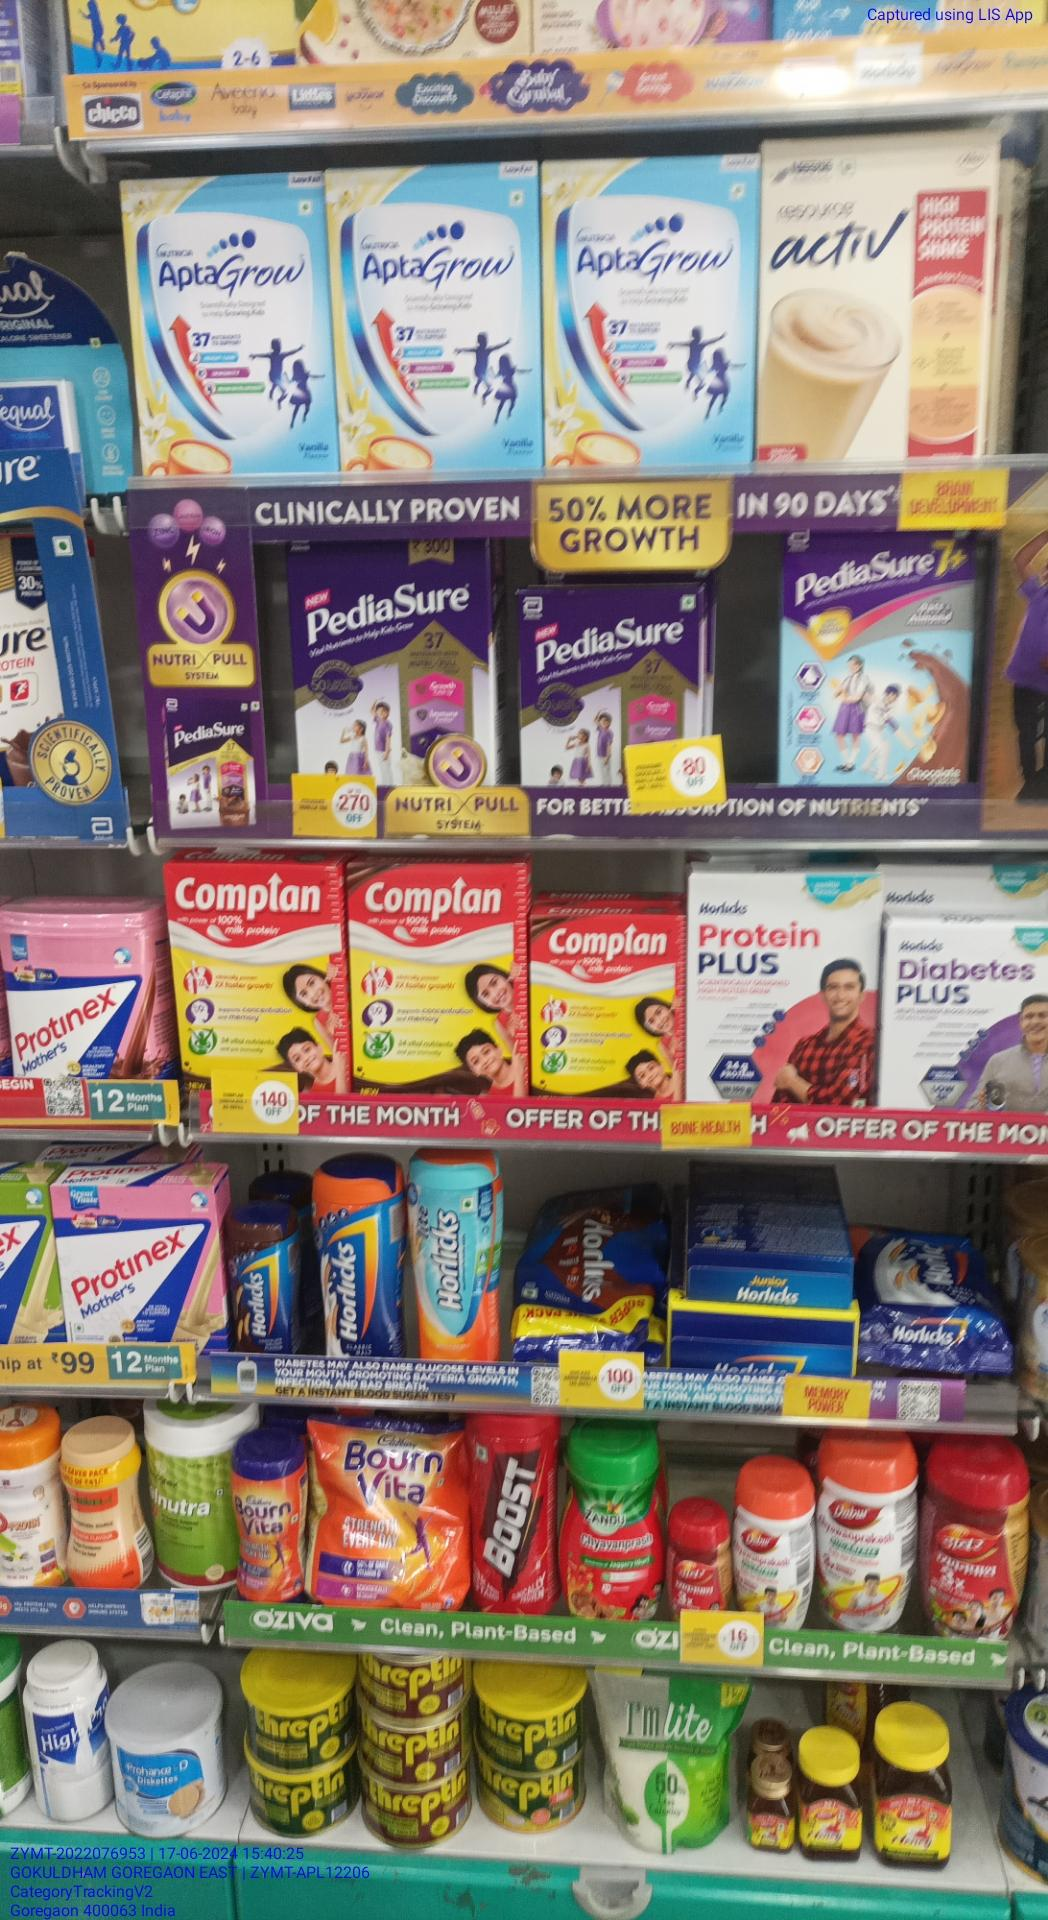BOURN_VITA_200_G_JAR: (232, 1425, 303, 1603)
BOURN_VITA_500_G_POUCH: (308, 1412, 466, 1609)
COMPLAN_CHOCOLATE_200_GMS_PACK: (534, 915, 685, 1102)
COMPLAN_CHOCOLATE_500_GMS_PACK: (348, 865, 529, 1095), (179, 863, 346, 1094)
HORLICKS_LITE_REGULAR_MALT_500_GM_JAR: (414, 1146, 502, 1359)
HORLICK_CLASSIC_MALT_200_G_JAR: (230, 1203, 294, 1354)
HORLICK_CLASSIC_MALT_500_G_JAR: (312, 1154, 412, 1357)
PEDIASURE_7_PLUS_CHOCOLATE_400_G_PACK: (781, 532, 971, 788)
